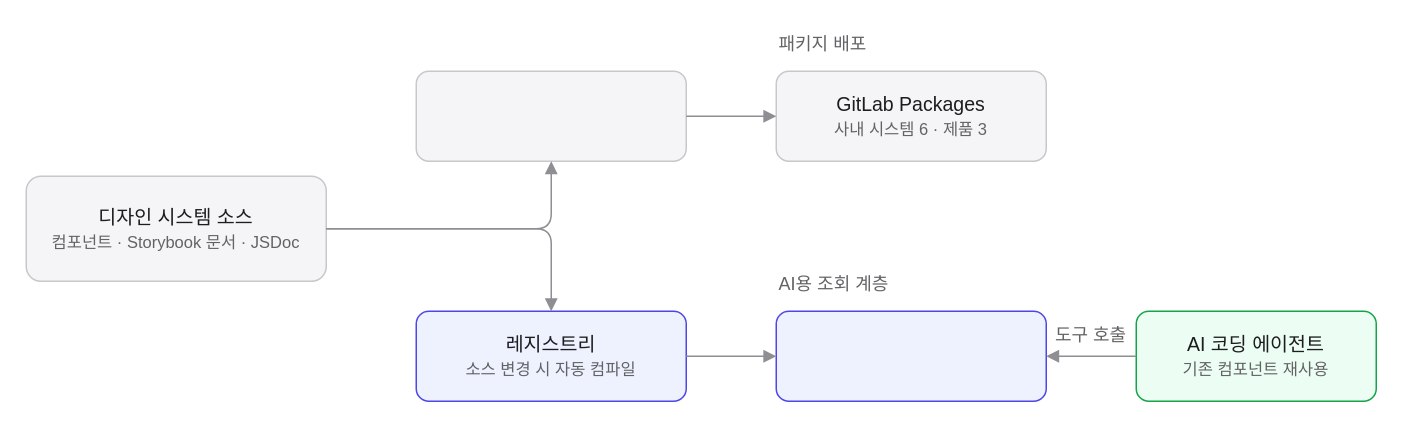
The diagram is 1403 pixels wide and 428 high, and some of its shapes have lost their labels. The shapes that lost their labels are listed below. From the top down, each one's centre as x and y in pixels, then its label:
the point at 550,115: Jenkins 파이프라인 빌드 · 검증 · 버전 배포
the point at 910,355: MCP 서버 목록 · 검색 · 상세 조회 도구
